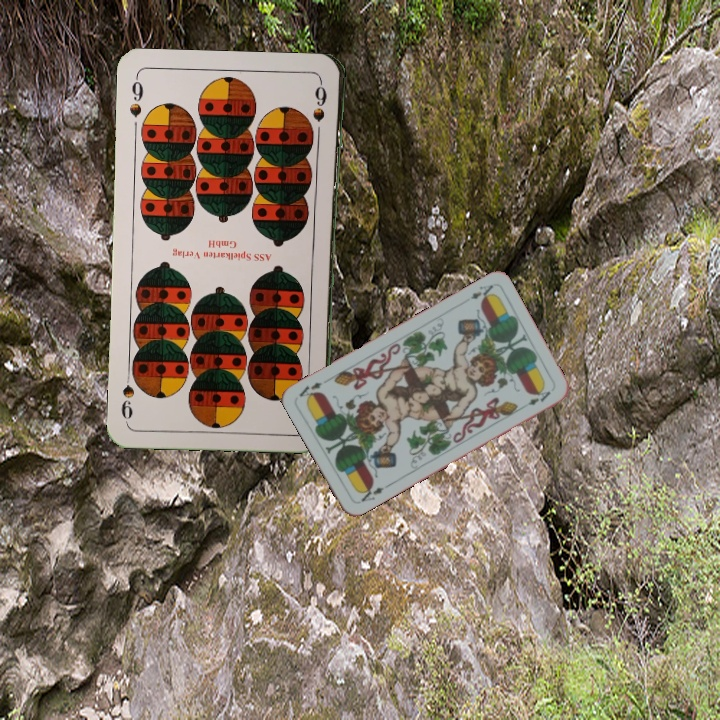EA: (355, 480, 392, 505), (466, 281, 496, 304)
S9: (125, 73, 146, 120)
